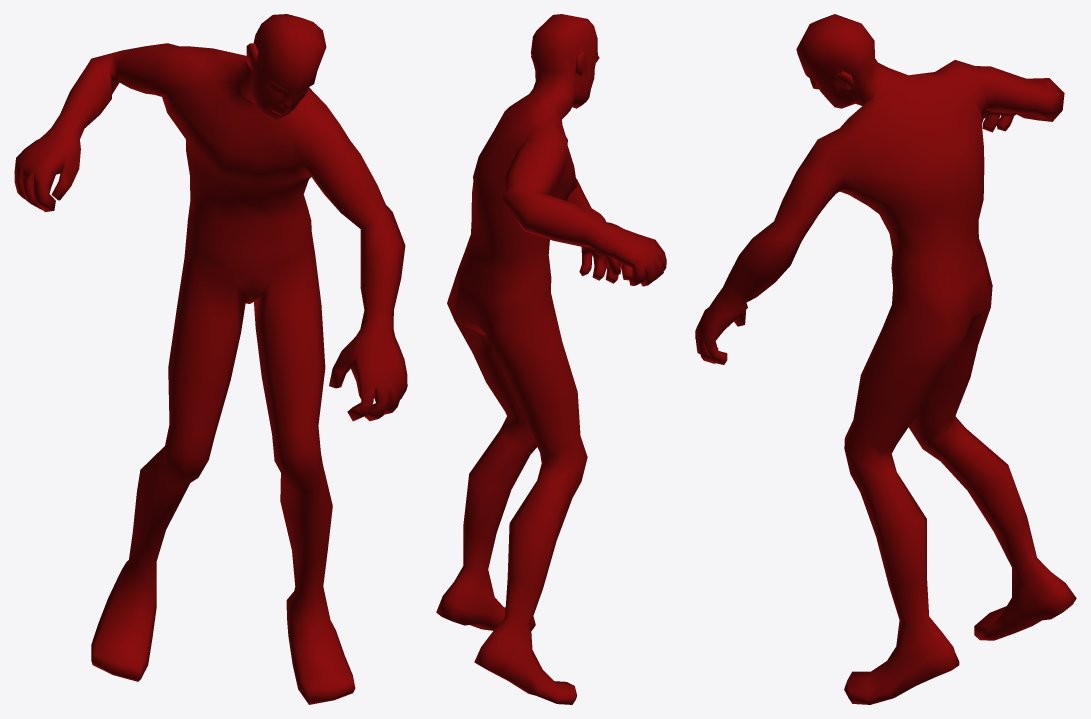
The model's file is attack_10.obj.
The picture shows the model from 3 angles, left to right: view 1: azimuth 30°, elevation 25°; view 2: azimuth 150°, elevation 25°; view 3: azimuth 270°, elevation 25°; orthographic projection. The views are drawn at different scales.
Visible parts, largest first — view 1: Low_Poly_Characte.000_Mesh.001; view 2: Low_Poly_Characte.000_Mesh.001; view 3: Low_Poly_Characte.000_Mesh.001.
Part boxes in pixels (x1,y1,x2,y2): Low_Poly_Characte.000_Mesh.001: (14, 14, 407, 704); Low_Poly_Characte.000_Mesh.001: (436, 14, 666, 704); Low_Poly_Characte.000_Mesh.001: (695, 14, 1076, 704).
Bounding box in the file's own units: 1.22 × 3 × 1.58.
